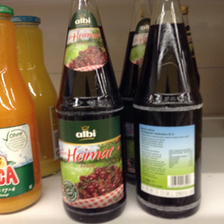juice: (56, 2, 127, 224), (135, 1, 203, 220), (1, 6, 42, 215)
